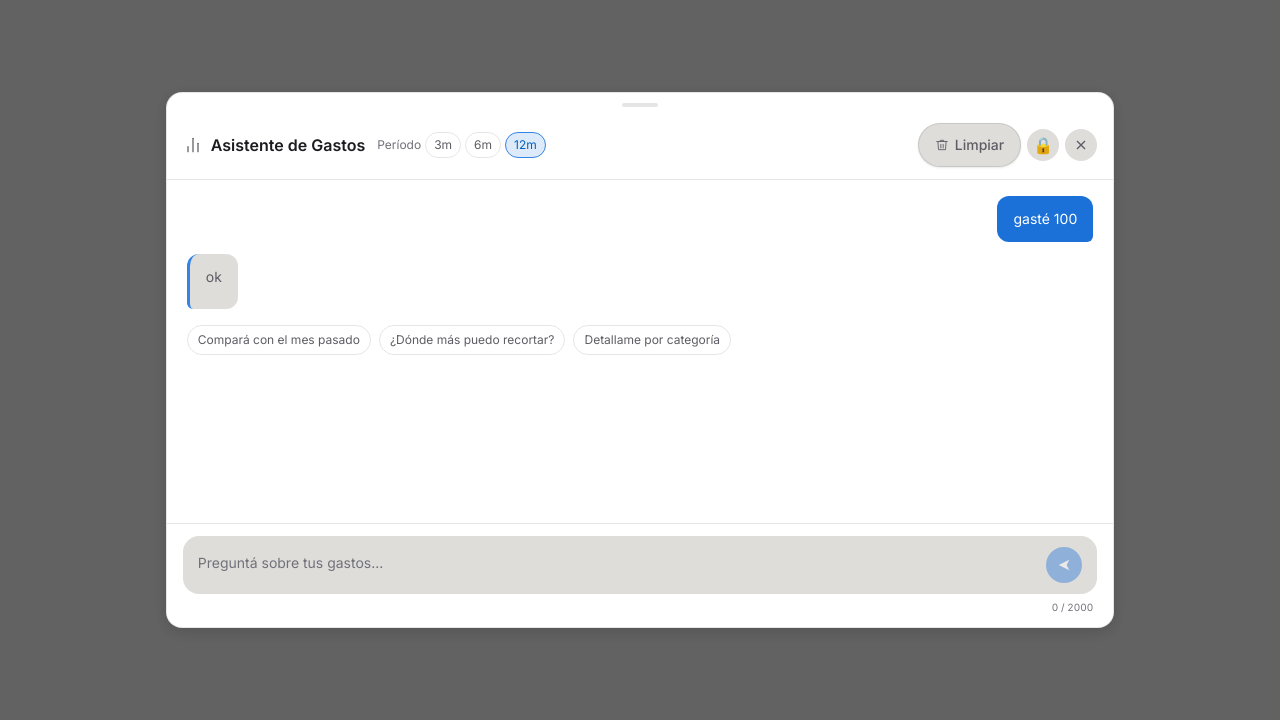
Test: AssistantShell › una sugerencia de seguimiento envía la pregunta al tocarla, sin pasar por el formulario
The width and height of the screenshot is (1280, 720).
In the text box: (618, 564) [198,550,1038,577], type "borrador sin enviar"
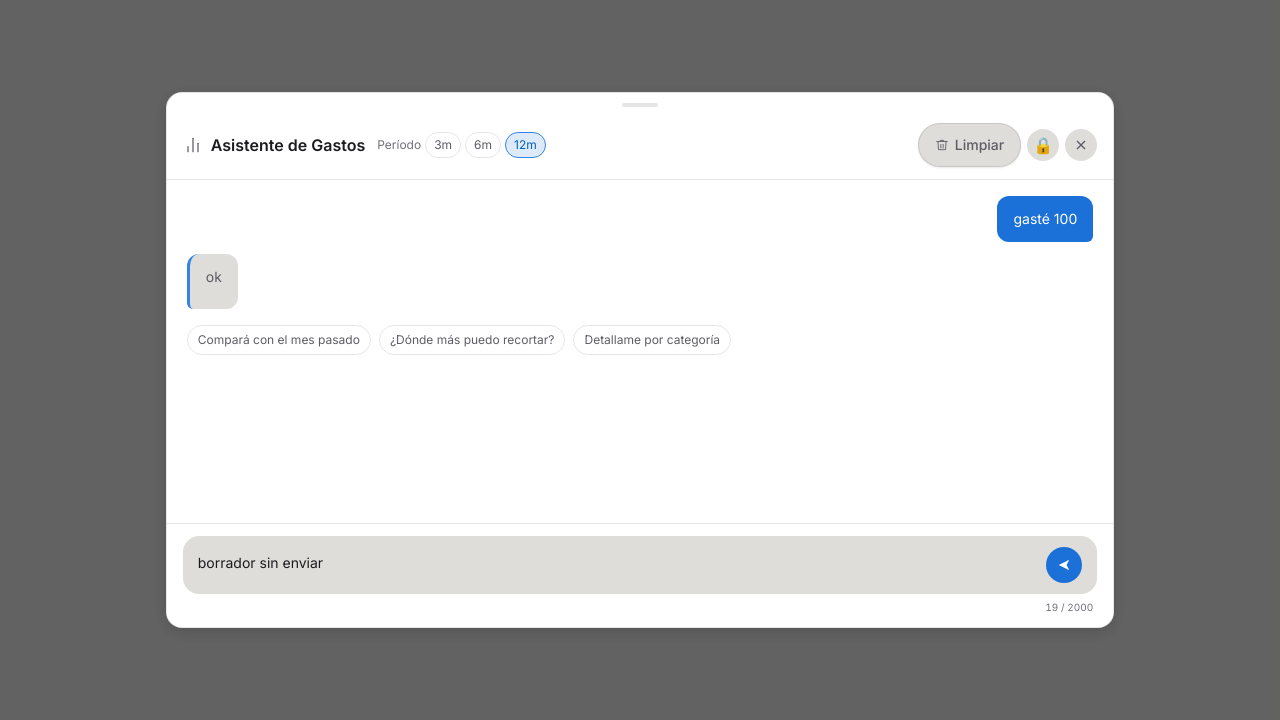
Click the button "¿Dónde más puedo recortar?": (472, 340) [379,325,566,355]
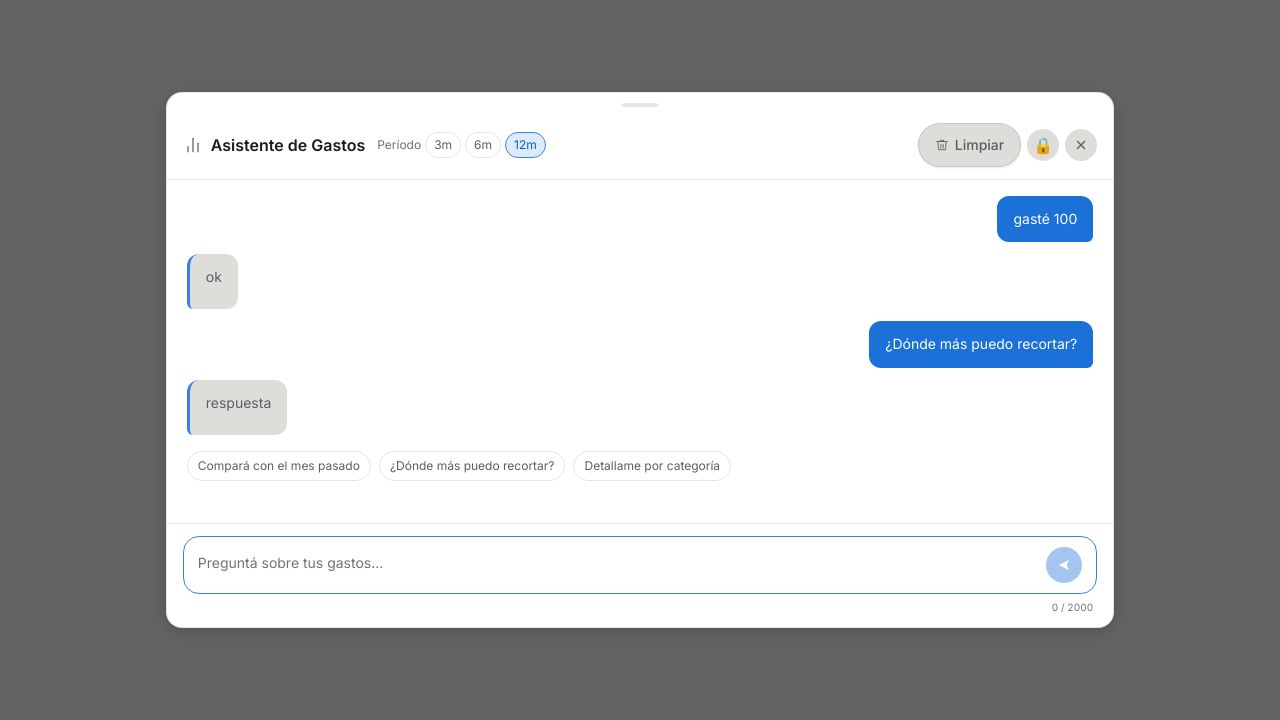
expect the text "borrador sin enviar" is not shown: met
expect the text "¿Dónde más puedo recortar?" is shown: met, box [869,321,1093,368]
expect the text box is empty: met, box [198,550,1038,577]
